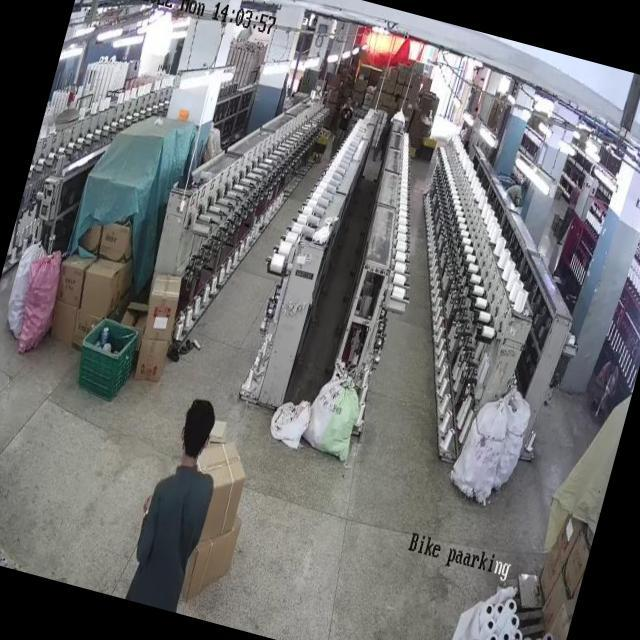person: (120, 391, 233, 613), (327, 90, 358, 156)
